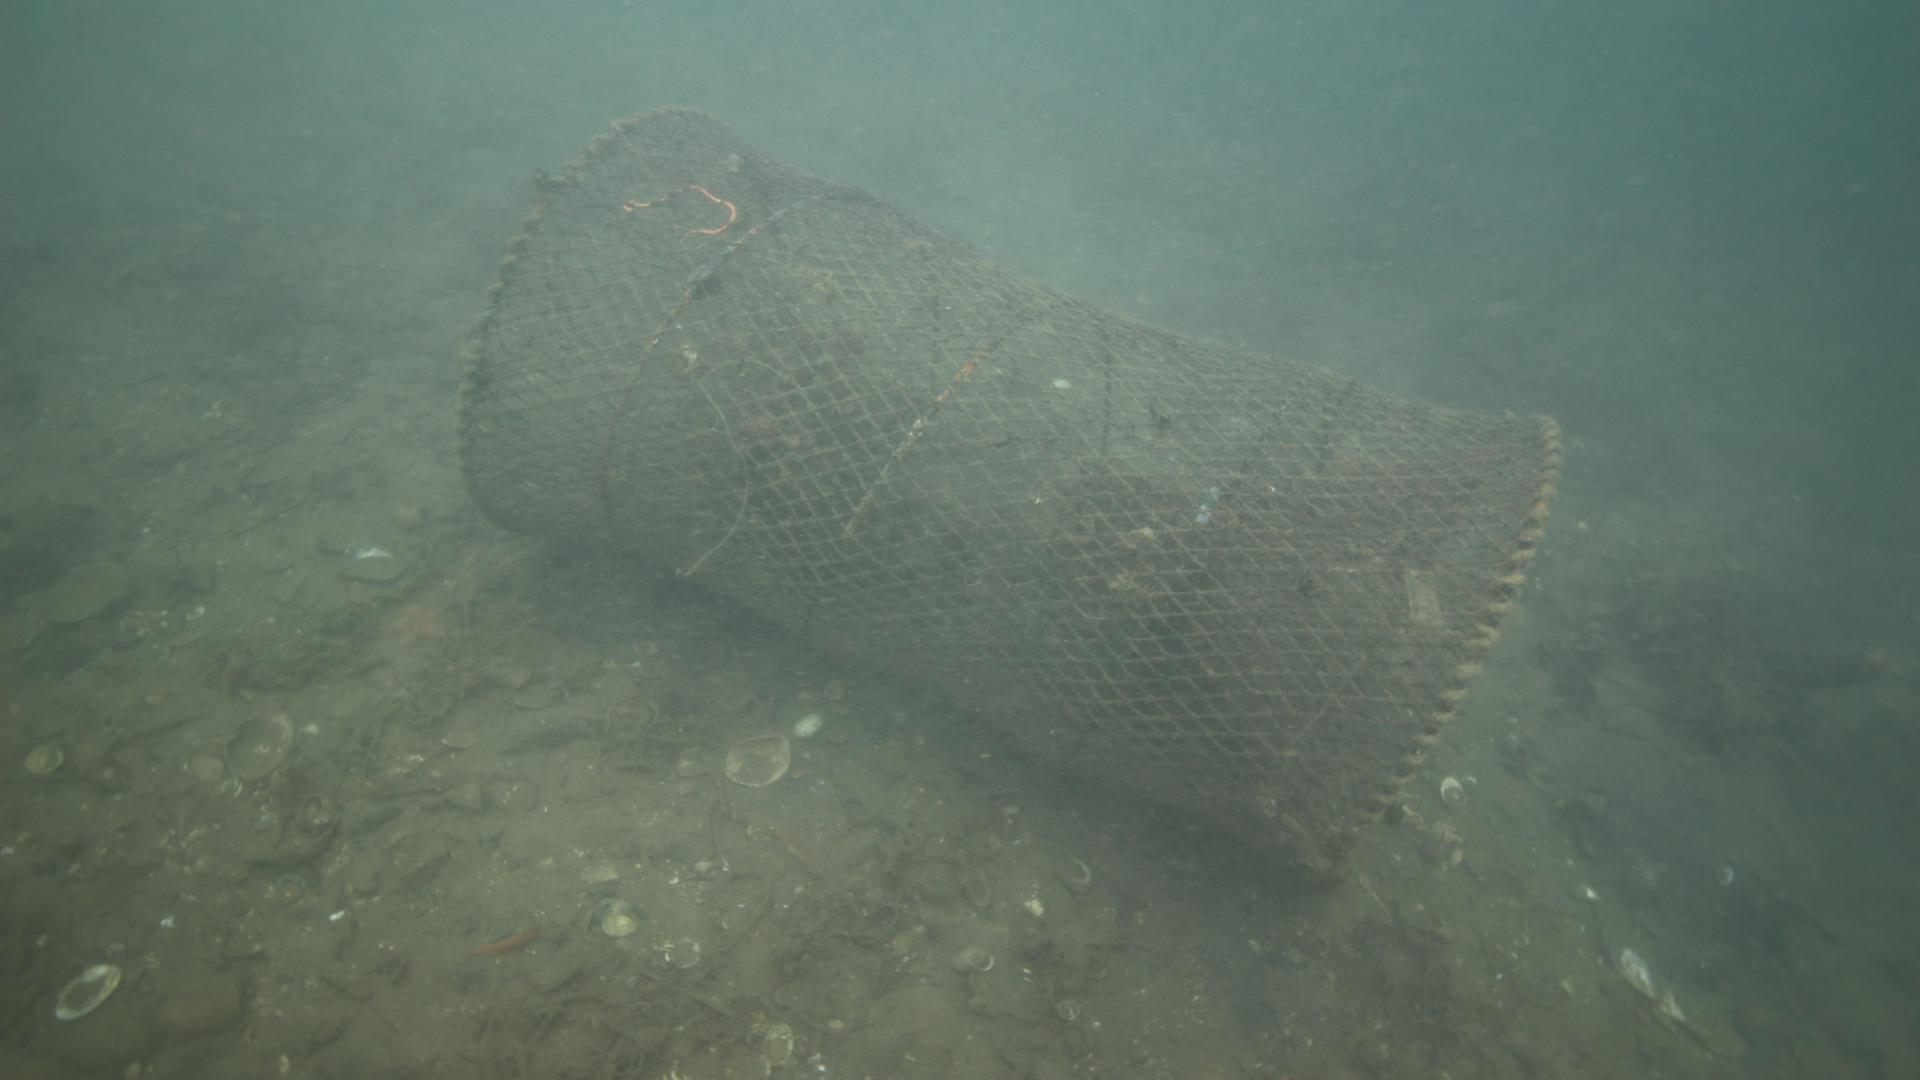spring fish trap: (458, 105, 1563, 897)
